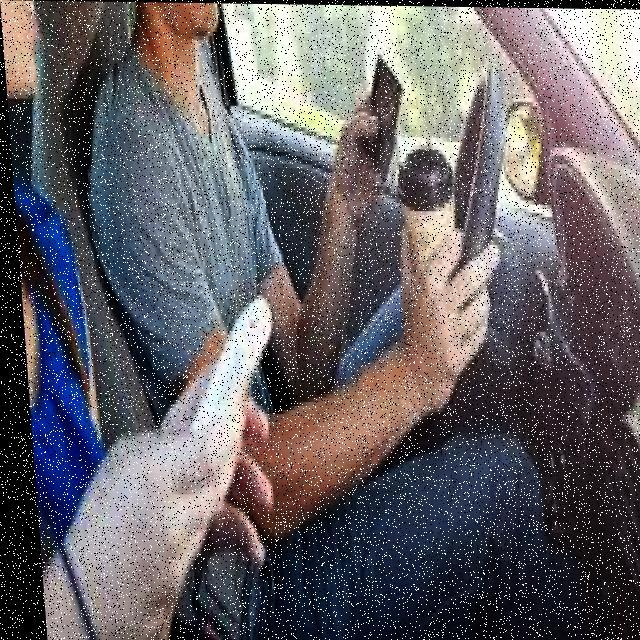noSeatbelt: (76, 5, 278, 374)
